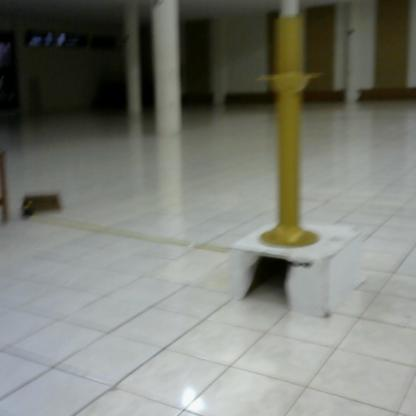pole: (255, 16, 332, 253)
